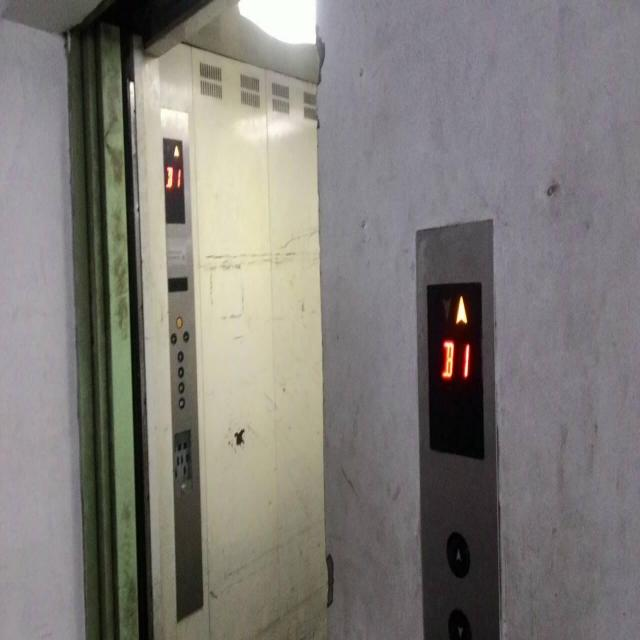blur: (176, 349, 184, 362), (170, 331, 177, 345), (178, 396, 185, 408), (183, 329, 189, 341), (181, 483, 187, 495), (176, 316, 182, 327), (178, 381, 184, 392), (178, 366, 184, 376)
down: (446, 608, 470, 639)
led: (426, 282, 484, 460), (162, 136, 186, 224)
up: (446, 530, 470, 578)
